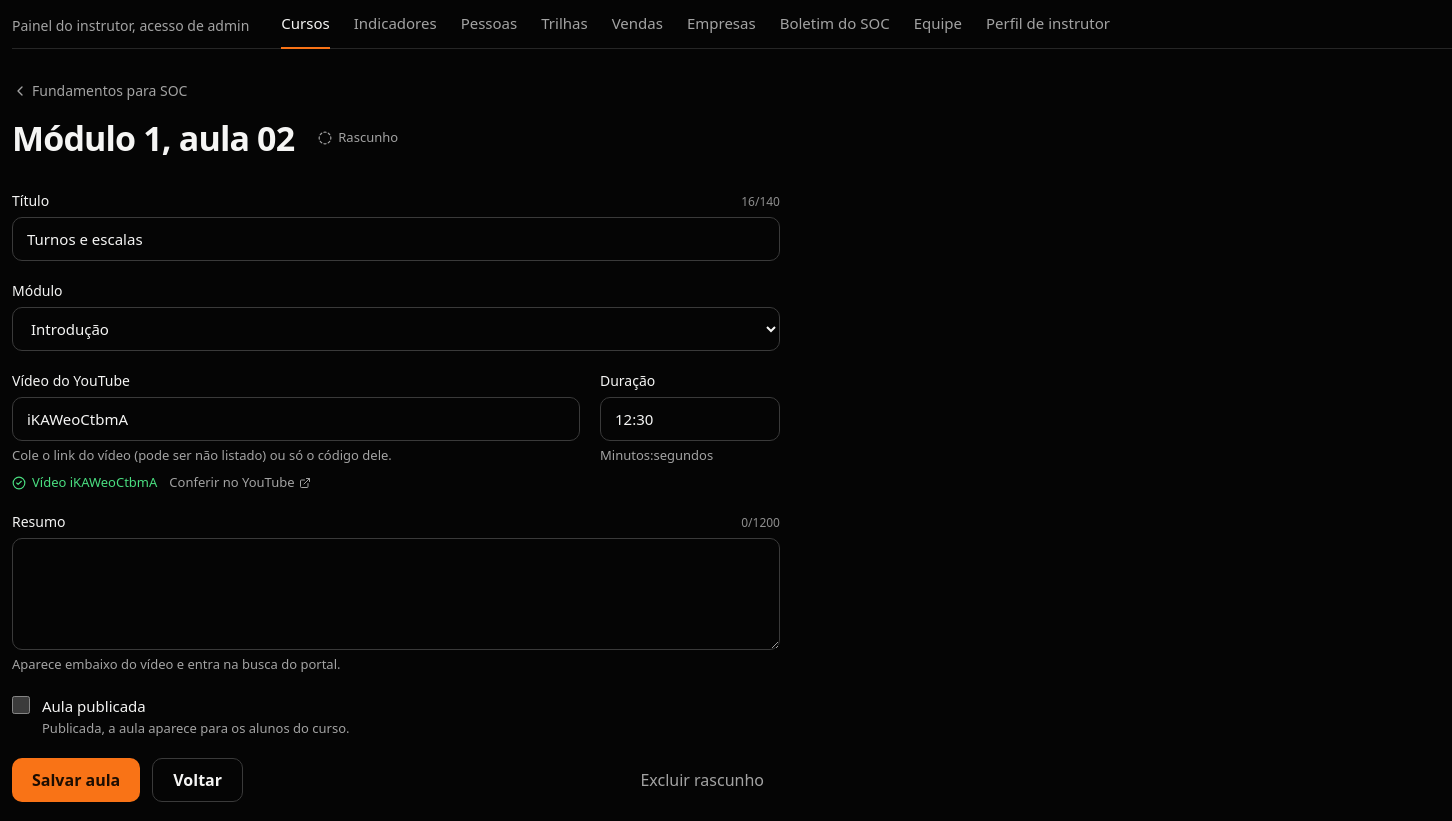
Test case: editor de aula › duração inválida é barrada antes de ir ao banco
Type "doze minutos" into the field labelled "Duração" at (690, 419), box [600, 397, 780, 441]
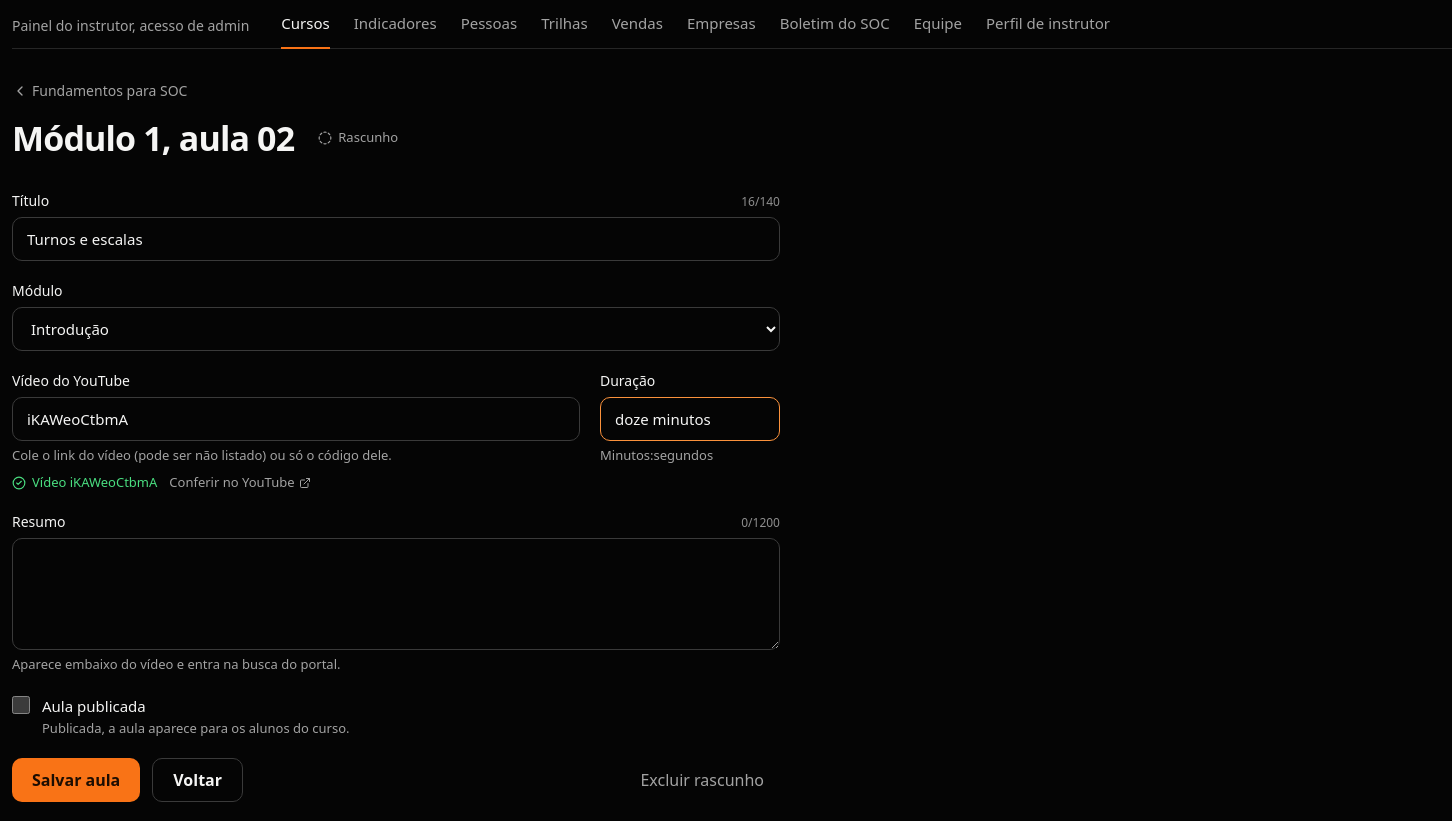
Click the button "Salvar aula" at (76, 780), box [12, 758, 140, 802]
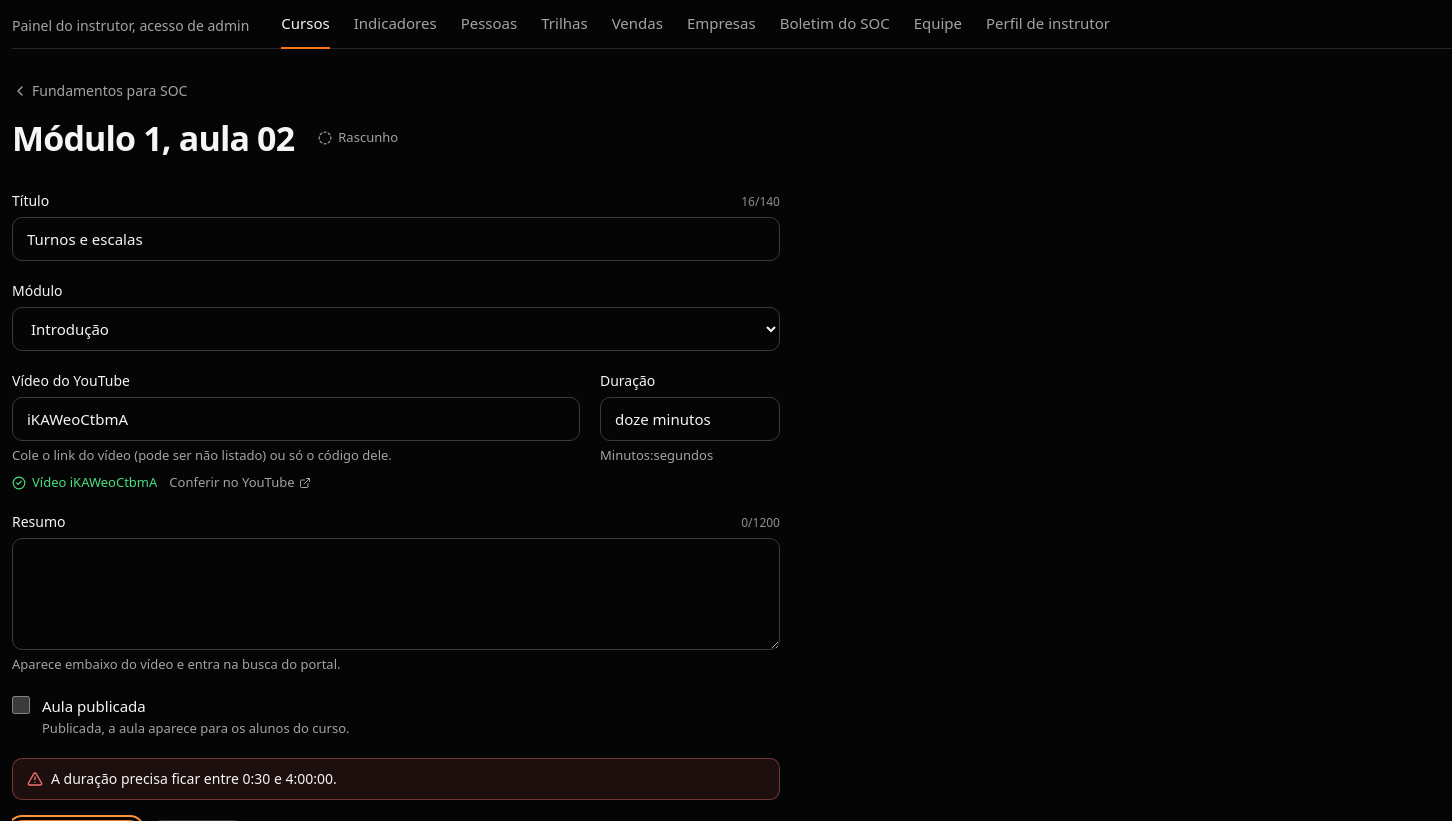
Expected: the message reads "A duração precisa ficar entre 0:30 e 4:00:00.", [51, 769, 337, 788]
